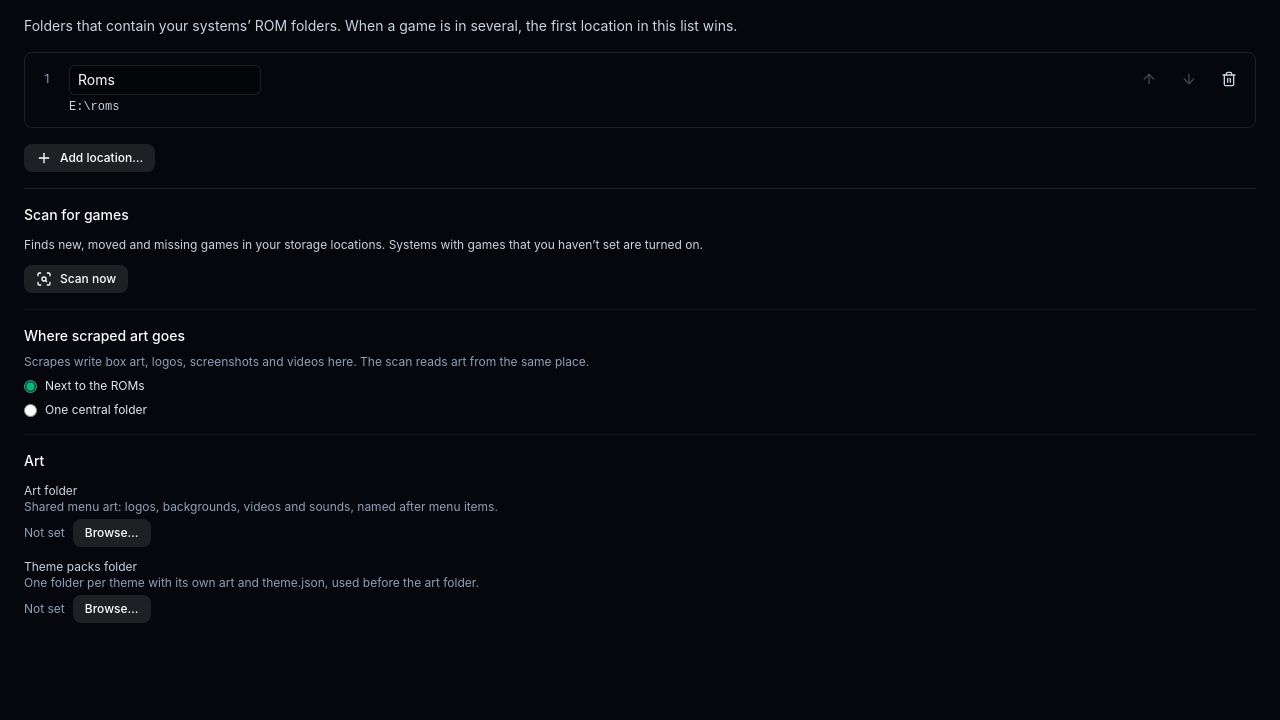
Test case: ScanPanel › FR-LIB-3: Scan now is disabled with unsaved storage changes
This screenshot has width=1280, height=720.
In the field named "Name of location 1": [165, 80] box [69,65,261,95], type "x"
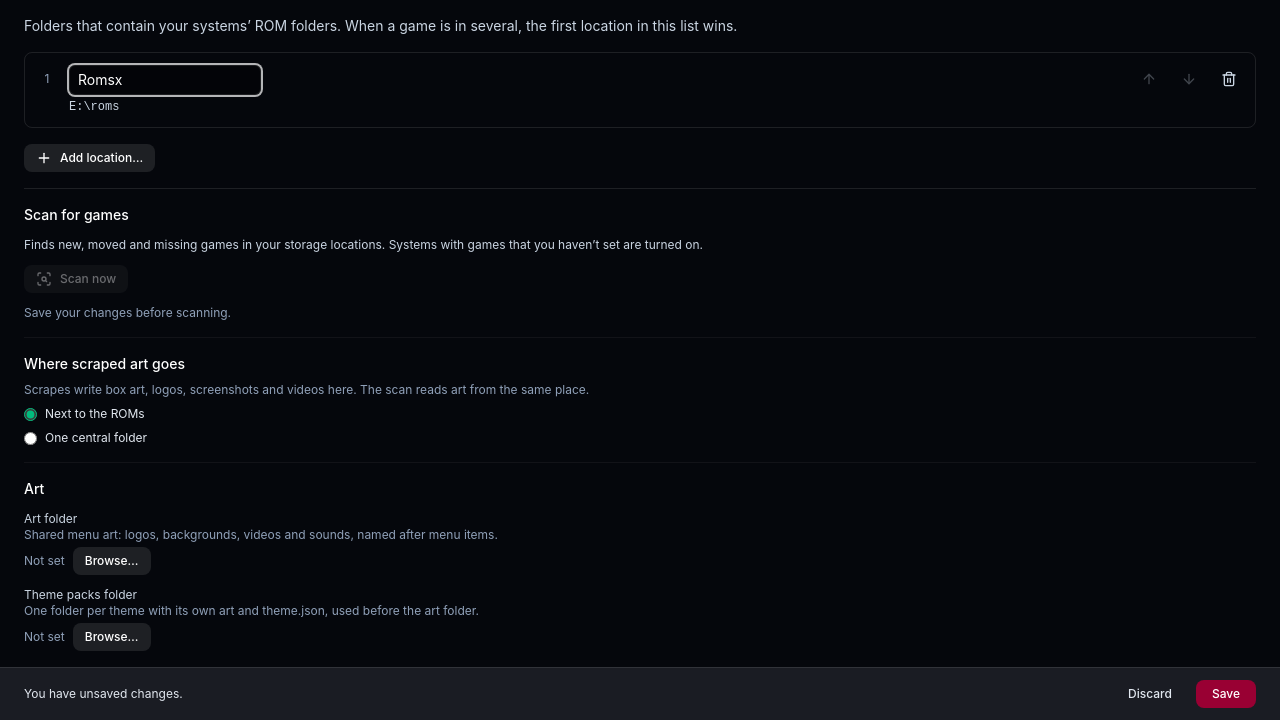
Expected: the button "Scan now" is disabled, [24,265,128,293]
Expected: the text "Save your changes before scanning." is shown, [24,305,231,320]
